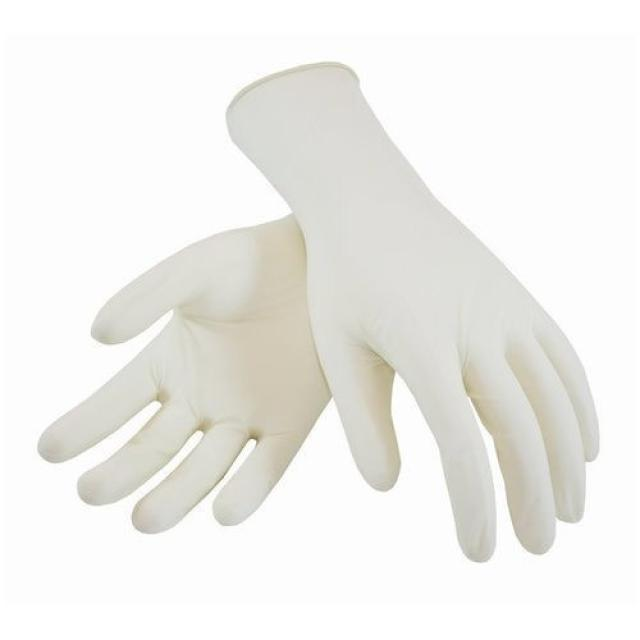Gloves: (214, 63, 613, 564), (47, 192, 384, 594)
